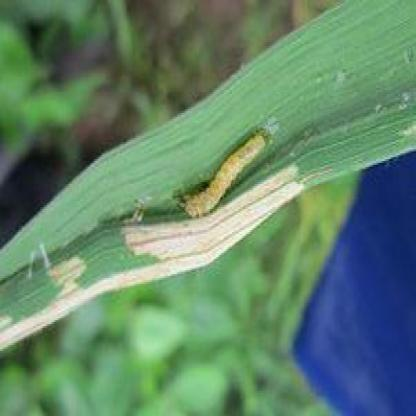leaf-folder: (181, 124, 280, 221)
